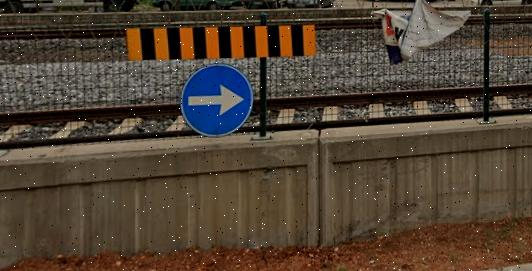turnright: (181, 64, 254, 139)
